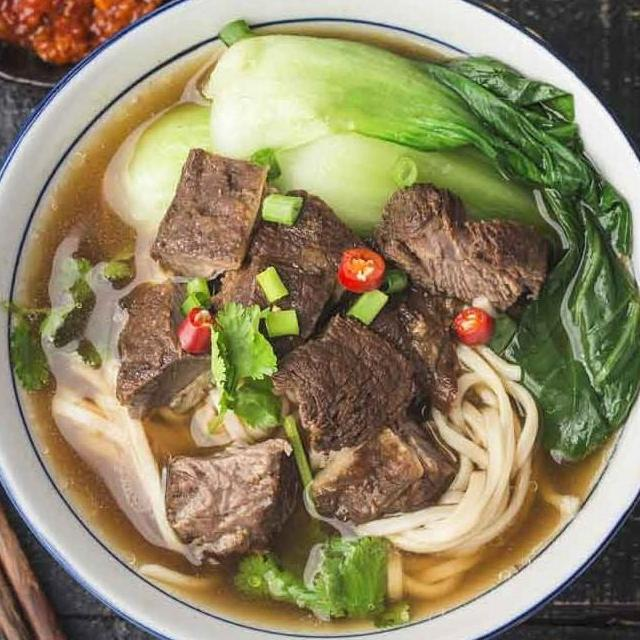banh pho: (348, 336, 546, 612)
pho bo: (0, 25, 640, 640)
thit bo: (202, 179, 372, 372), (258, 303, 431, 481), (371, 173, 548, 326), (154, 428, 308, 576), (302, 408, 464, 533), (146, 142, 278, 292), (104, 272, 214, 422)
